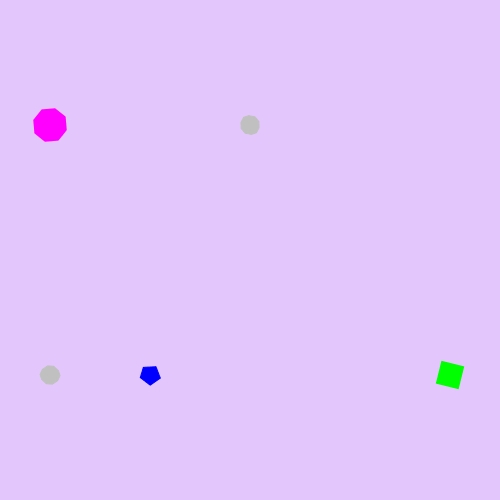decagon: (235, 111, 265, 139), (35, 361, 65, 389)
octagon: (29, 104, 72, 147)
pentagon: (136, 361, 165, 390)
quadrilateral: (430, 355, 470, 395)
